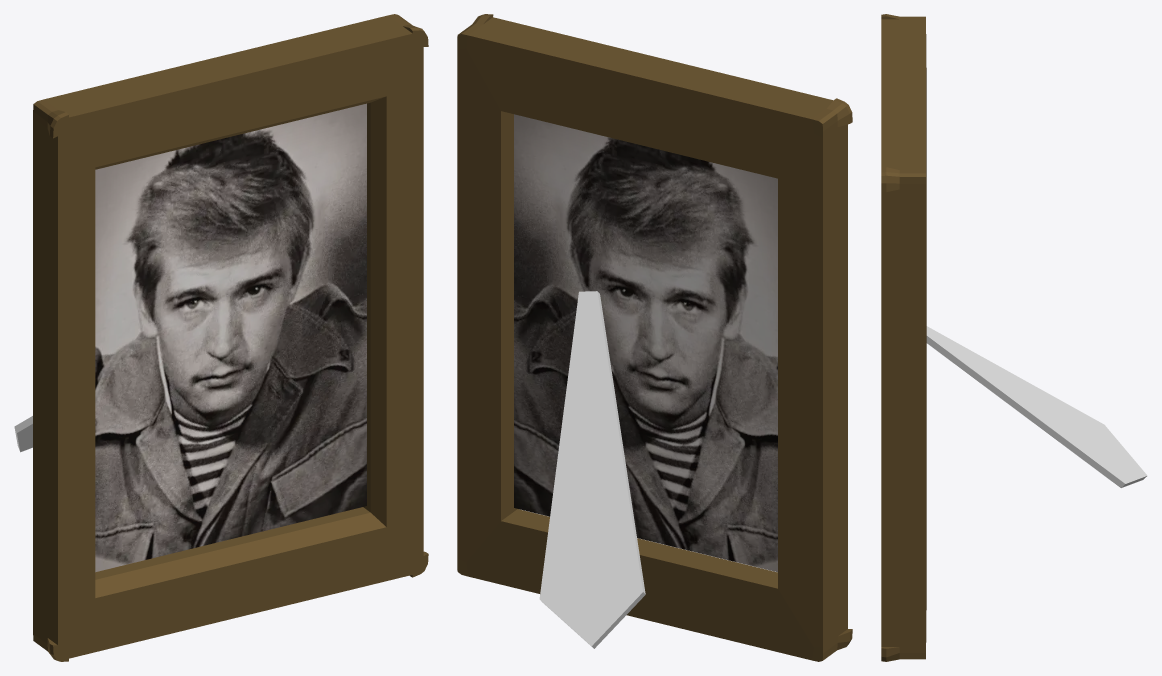
The model's file is portrait_02.glb.
3 views of the same model, side by side, from view 1: azimuth 30°, elevation 25°; view 2: azimuth 150°, elevation 25°; view 3: azimuth 270°, elevation 25° (orthographic). The views are drawn at different scales.
Parts seen in each view (by area): view 1: Plane.001, Plane; view 2: Plane.001, Plane, Plane.003; view 3: Plane.001, Plane.003.
Part boxes in pixels (x1,y1,x2,y2): Plane.001: [33, 14, 428, 661]; Plane: [95, 103, 366, 572]; Plane.001: [457, 14, 852, 661]; Plane: [514, 114, 777, 572]; Plane.003: [539, 291, 645, 648]; Plane.001: [881, 14, 926, 661]; Plane.003: [926, 326, 1147, 487].
Size of the model in its own units: 1.49 by 2.07 by 1.01.
2 materials, 1 textured.
